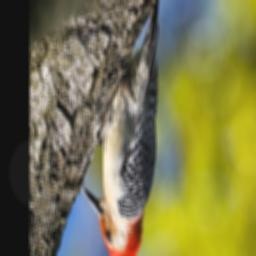Woodpecker: (79, 0, 159, 256)
